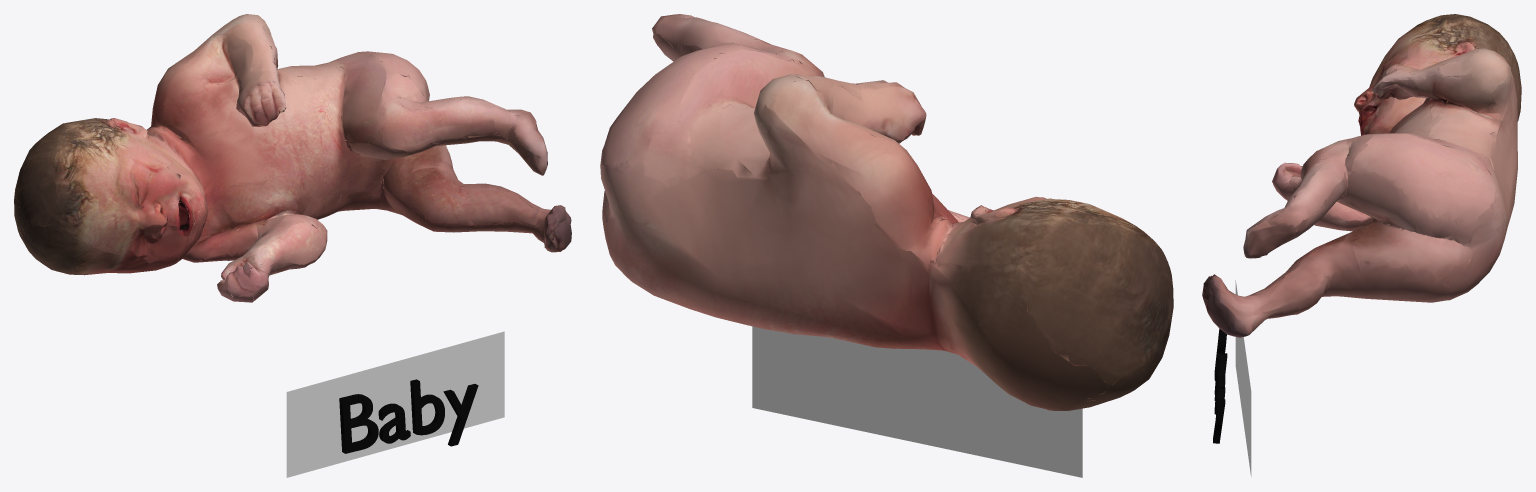
File: baby.gltf
3 views of the same model, side by side, from view 1: azimuth 30°, elevation 25°; view 2: azimuth 150°, elevation 25°; view 3: azimuth 270°, elevation 25° (orthographic). The views are drawn at different scales.
Parts seen in each view (by area): view 1: Object_2, Plane.005, Text.004; view 2: Object_2, Plane.005; view 3: Object_2, Plane.005, Text.004.
Boxes of the visible parts, x1=… form: Object_2: x1=14, y1=14, x2=571, y2=302; Plane.005: x1=286, y1=331, x2=504, y2=477; Text.004: x1=339, y1=379, x2=478, y2=453; Object_2: x1=600, y1=14, x2=1173, y2=410; Plane.005: x1=752, y1=326, x2=1082, y2=477; Object_2: x1=1202, y1=14, x2=1521, y2=337; Plane.005: x1=1235, y1=280, x2=1251, y2=476; Text.004: x1=1213, y1=328, x2=1227, y2=443.
Size of the model in its own units: 8.21 by 6.19 by 5.03.
3 materials, 1 textured.
